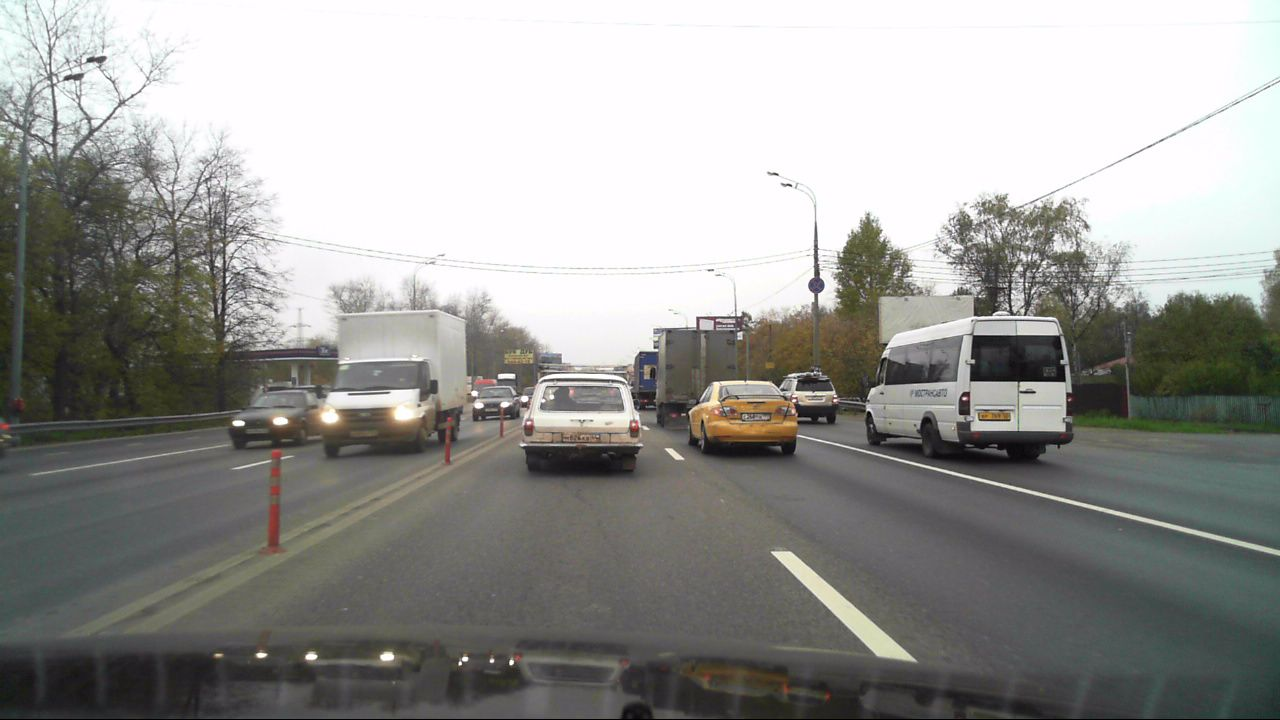No Parking: (807, 277, 824, 293)
